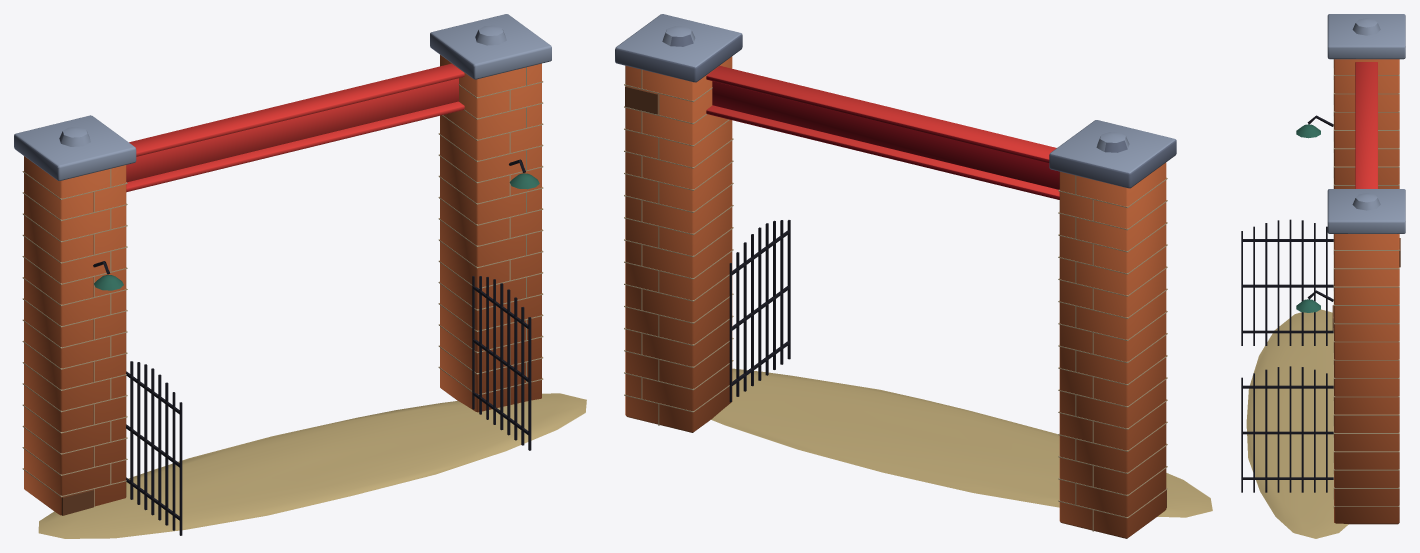
The model's file is FactoryGate.fbx.
3 renders of one model, left to right at view 1: azimuth 30°, elevation 25°; view 2: azimuth 150°, elevation 25°; view 3: azimuth 270°, elevation 25°, orthographic. The views are drawn at different scales.
Visible parts, largest first — view 1: FactoryGate; view 2: FactoryGate; view 3: FactoryGate.
Boxes of the visible parts, x1,y1,x2,y2 form: FactoryGate: (14,14,586,538); FactoryGate: (615,14,1212,538); FactoryGate: (1241,14,1405,538).
Bounding box in the file's own units: 10.81 × 6.9 × 3.26.
Materials: 2 (2 with a texture image).
